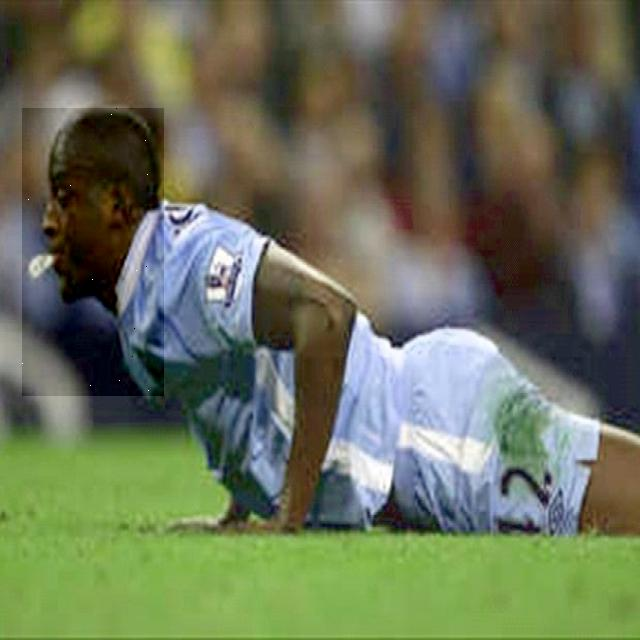Spitting: (22, 108, 164, 396)
